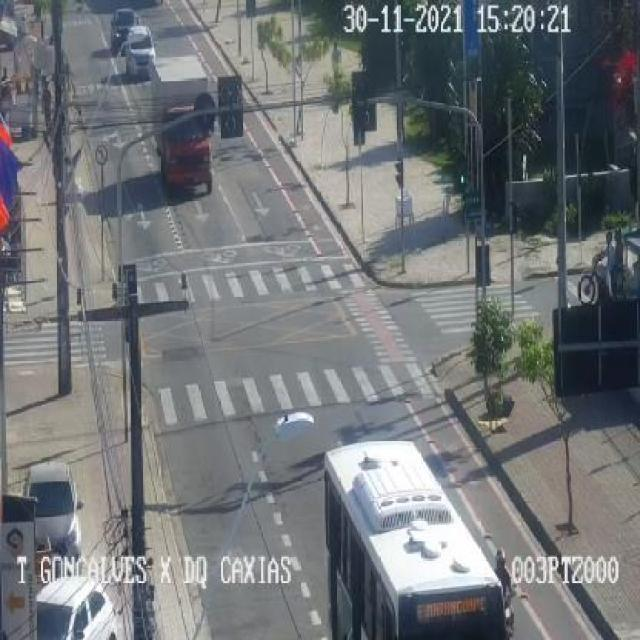Bus: (320, 440, 507, 640)
Car: (21, 458, 83, 561), (35, 575, 122, 640), (126, 24, 158, 82), (109, 8, 140, 54)
Cycle: (573, 258, 631, 306), (498, 586, 518, 640)
Truck: (146, 54, 218, 197)
